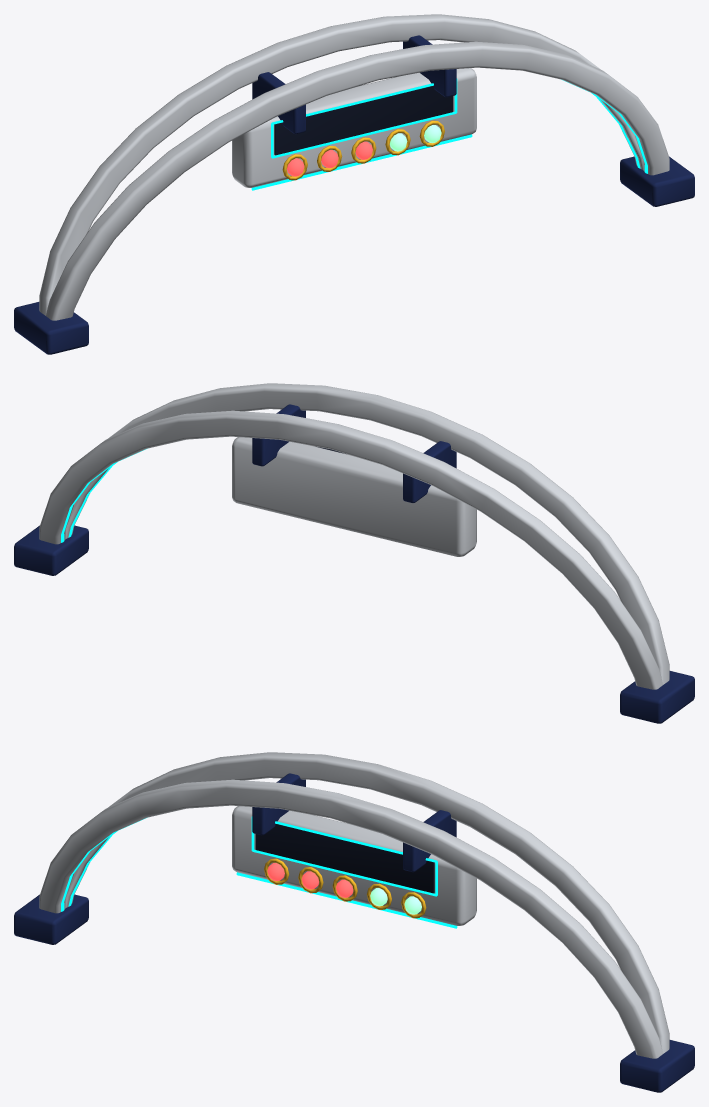
File: RaceStartGantry.fbx
3 views of the same model, one above another, from view 1: azimuth 30°, elevation 25°; view 2: azimuth 150°, elevation 25°; view 3: azimuth 330°, elevation 25° (orthographic).
Visible parts, largest first — view 1: RaceStartGantry__Base, RaceStartGantry__Trim, RaceStartGantry__Panel, RaceStartGantry__Accent, RaceStartGantry__Gold; view 2: RaceStartGantry__Base, RaceStartGantry__Trim; view 3: RaceStartGantry__Base, RaceStartGantry__Trim, RaceStartGantry__Panel, RaceStartGantry__Accent, RaceStartGantry__Gold.
Boxes of the visible parts, left/top/right/bottom form: RaceStartGantry__Base: left=39, top=14, right=669, bottom=320; RaceStartGantry__Trim: left=14, top=35, right=694, bottom=354; RaceStartGantry__Panel: left=274, top=85, right=453, bottom=155; RaceStartGantry__Accent: left=251, top=78, right=647, bottom=190; RaceStartGantry__Gold: left=282, top=120, right=444, bottom=180; RaceStartGantry__Base: left=39, top=383, right=669, bottom=689; RaceStartGantry__Trim: left=14, top=404, right=694, bottom=723; RaceStartGantry__Base: left=39, top=752, right=669, bottom=1058; RaceStartGantry__Trim: left=14, top=773, right=694, bottom=1092; RaceStartGantry__Panel: left=255, top=823, right=434, bottom=893; RaceStartGantry__Accent: left=61, top=816, right=457, bottom=928; RaceStartGantry__Gold: left=264, top=858, right=426, bottom=918.
Bounding box in the file's own units: 94.6 × 31.4 × 12.2.
